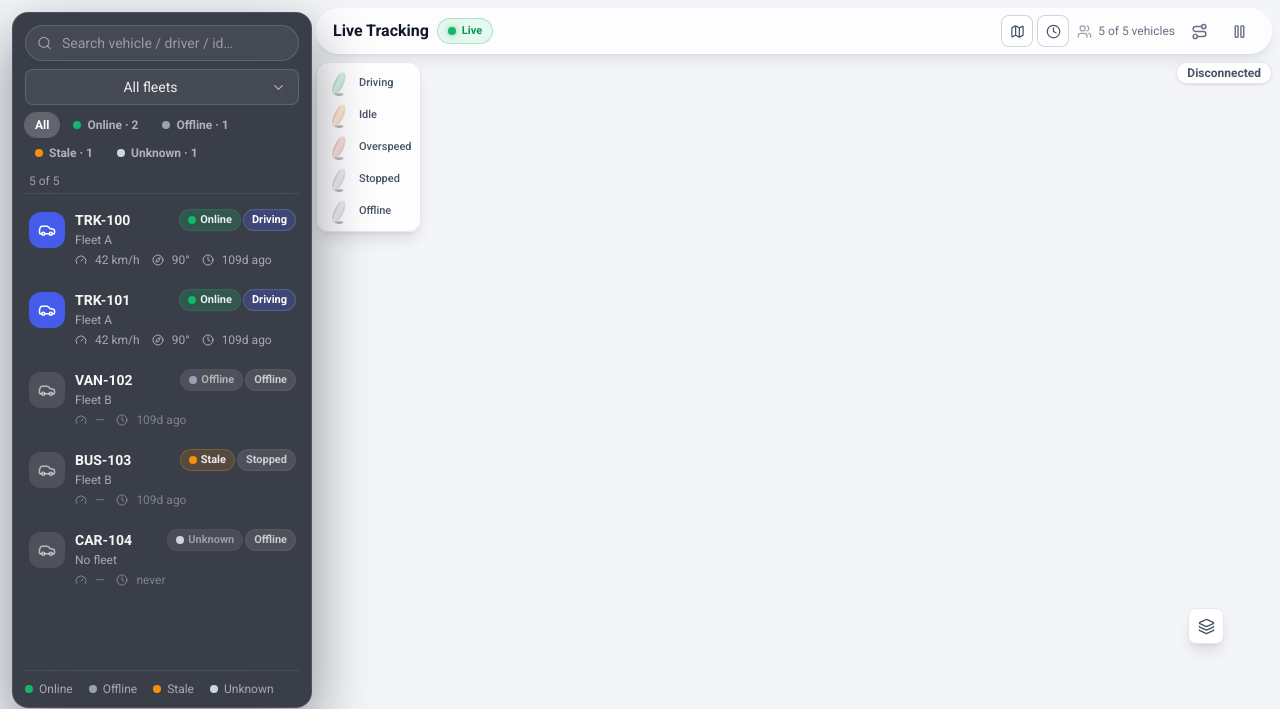
Test: MapPage (Live Tracking) › opens the device popup drawer when a device is selected
The image size is (1280, 709).
Click the text "TRK-100": [103, 220] box x1=75 y1=210 x2=130 y2=230
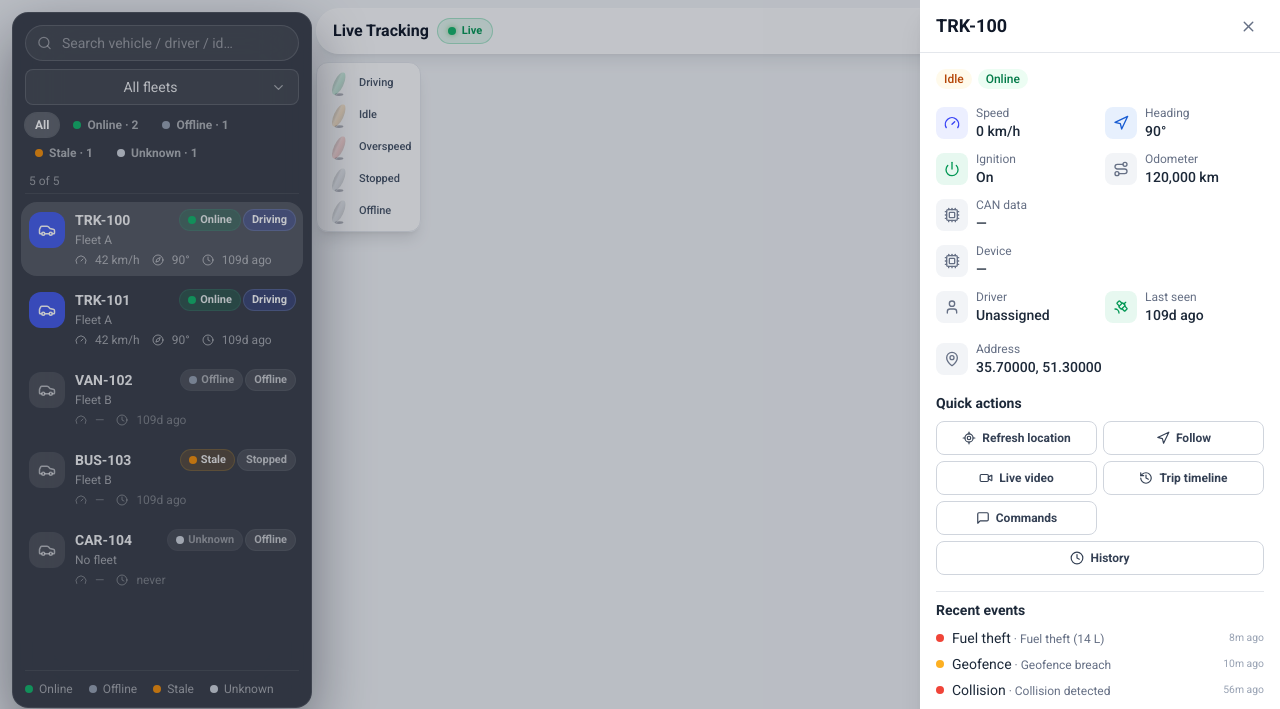
Result: the heading "TRK-100" is shown at x1=936 y1=12 x2=1007 y2=40
